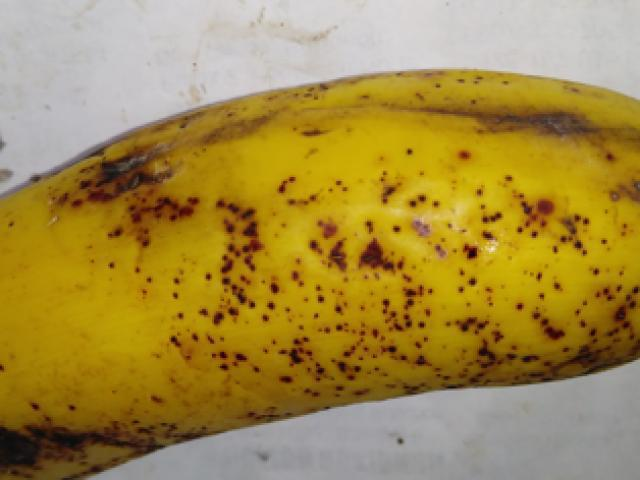rotten: (327, 47, 639, 151), (61, 104, 184, 222), (0, 397, 150, 479)
